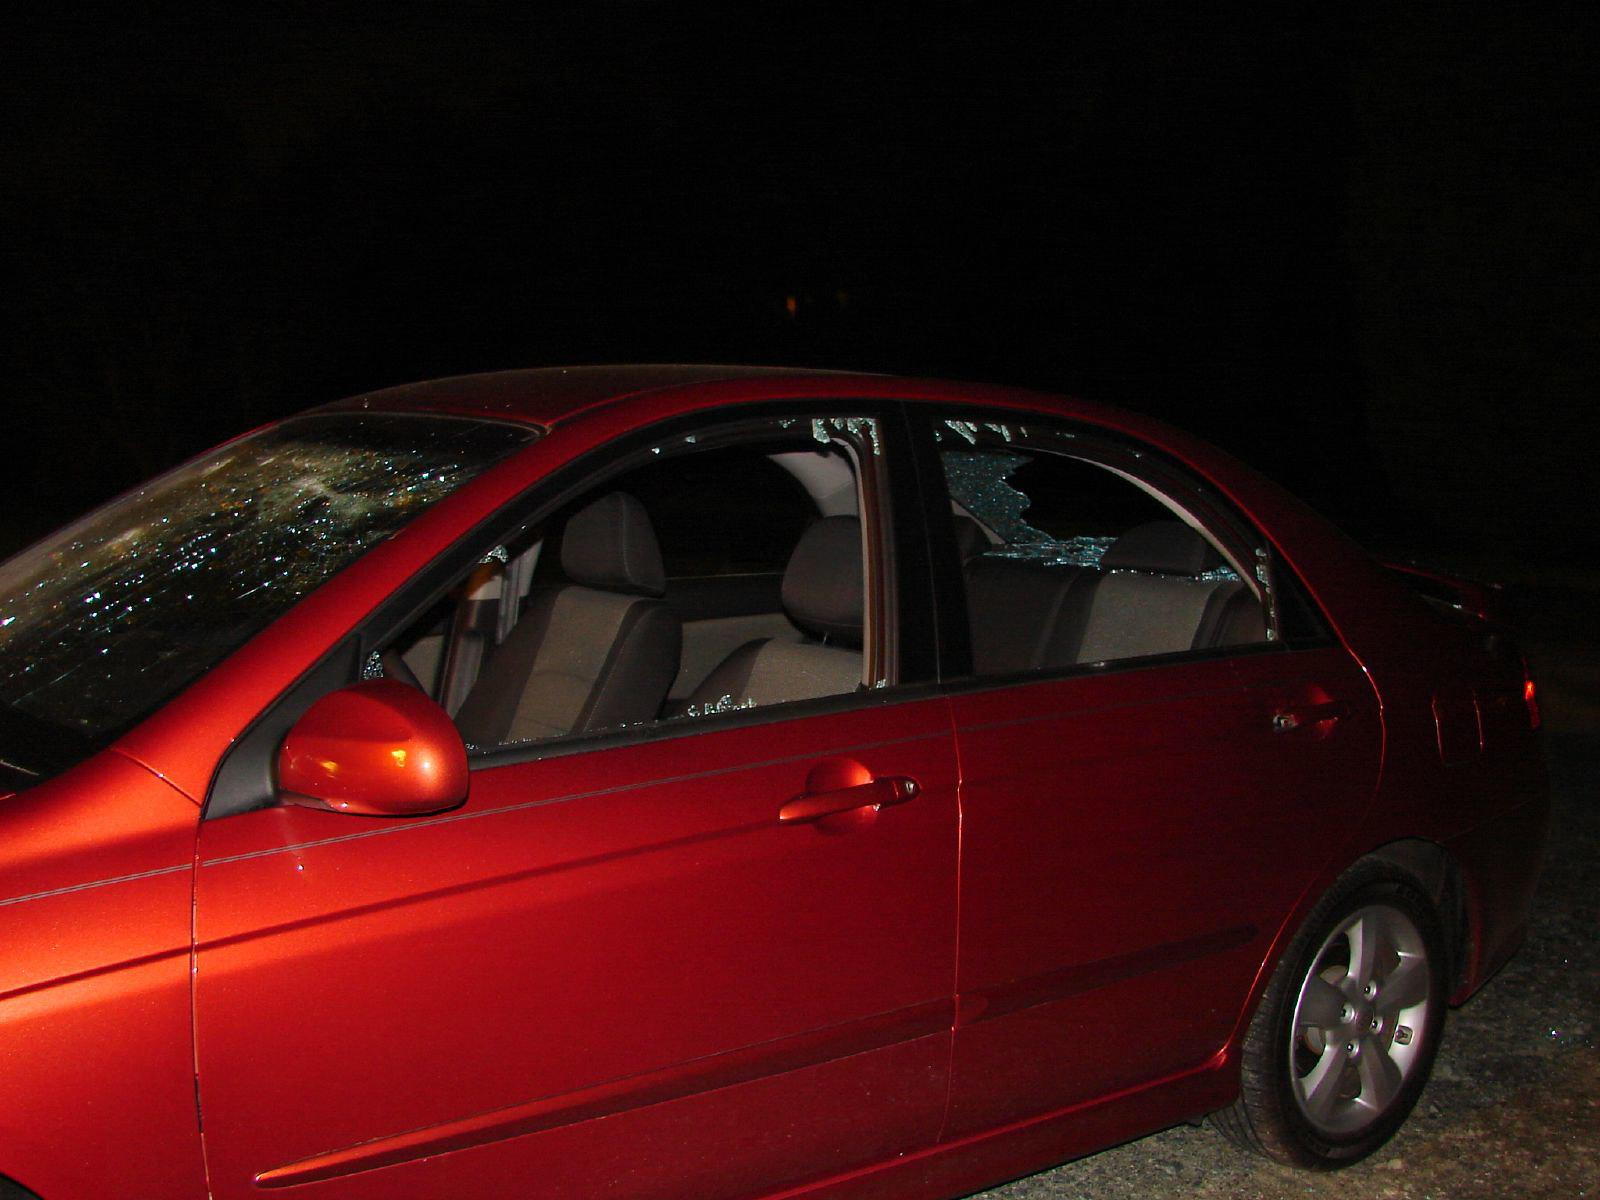Front-Windscreen-Damage: (0, 417, 437, 713)
doorouter-dent: (358, 413, 949, 1129), (860, 393, 1283, 909)
